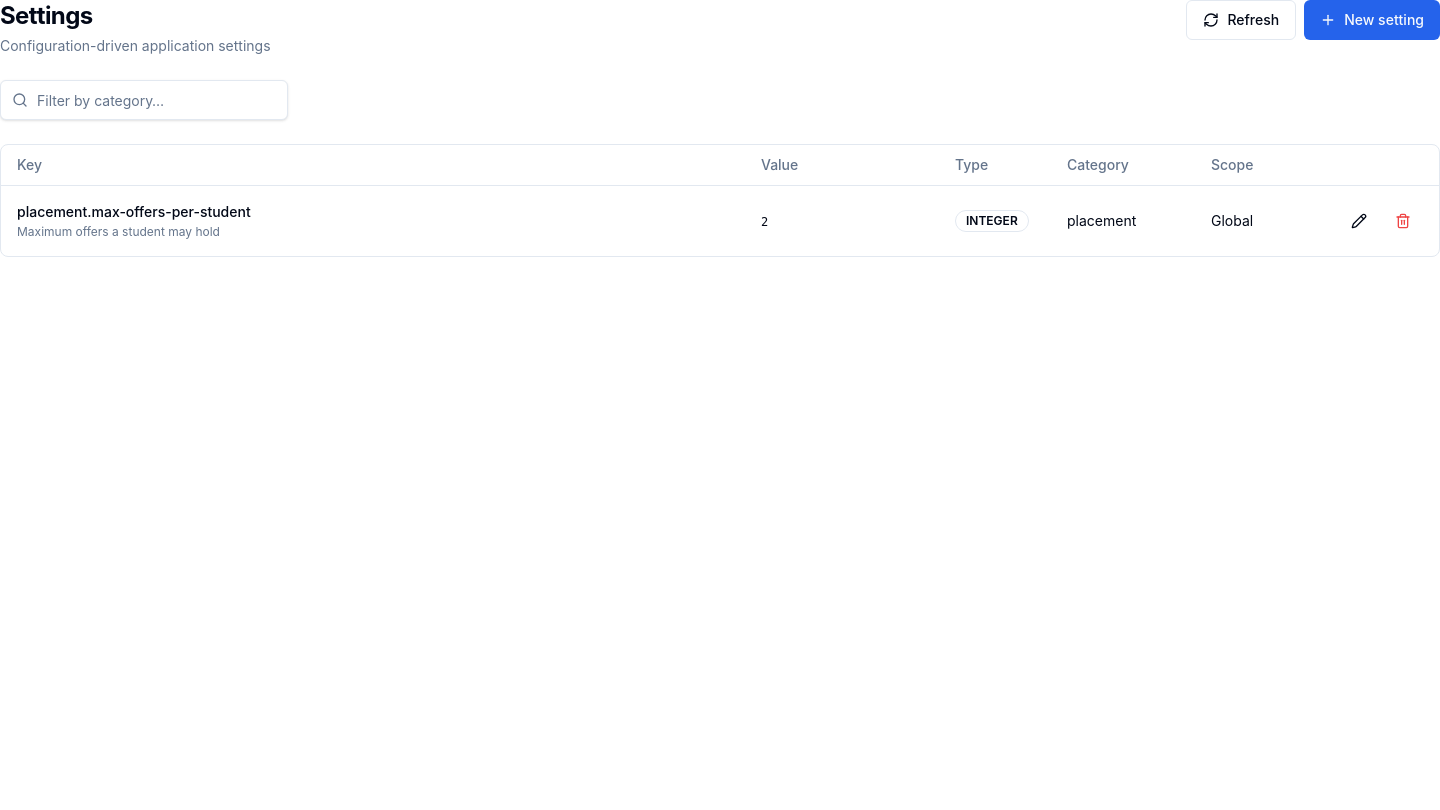
SettingsPage › confirms before deleting, then removes the setting
Expected: the text "placement.max-offers-per-student" is shown, [17,202,251,220]
Click the button named "delete placement.max-offers-per-student": (1403, 220) [1383,202,1423,238]
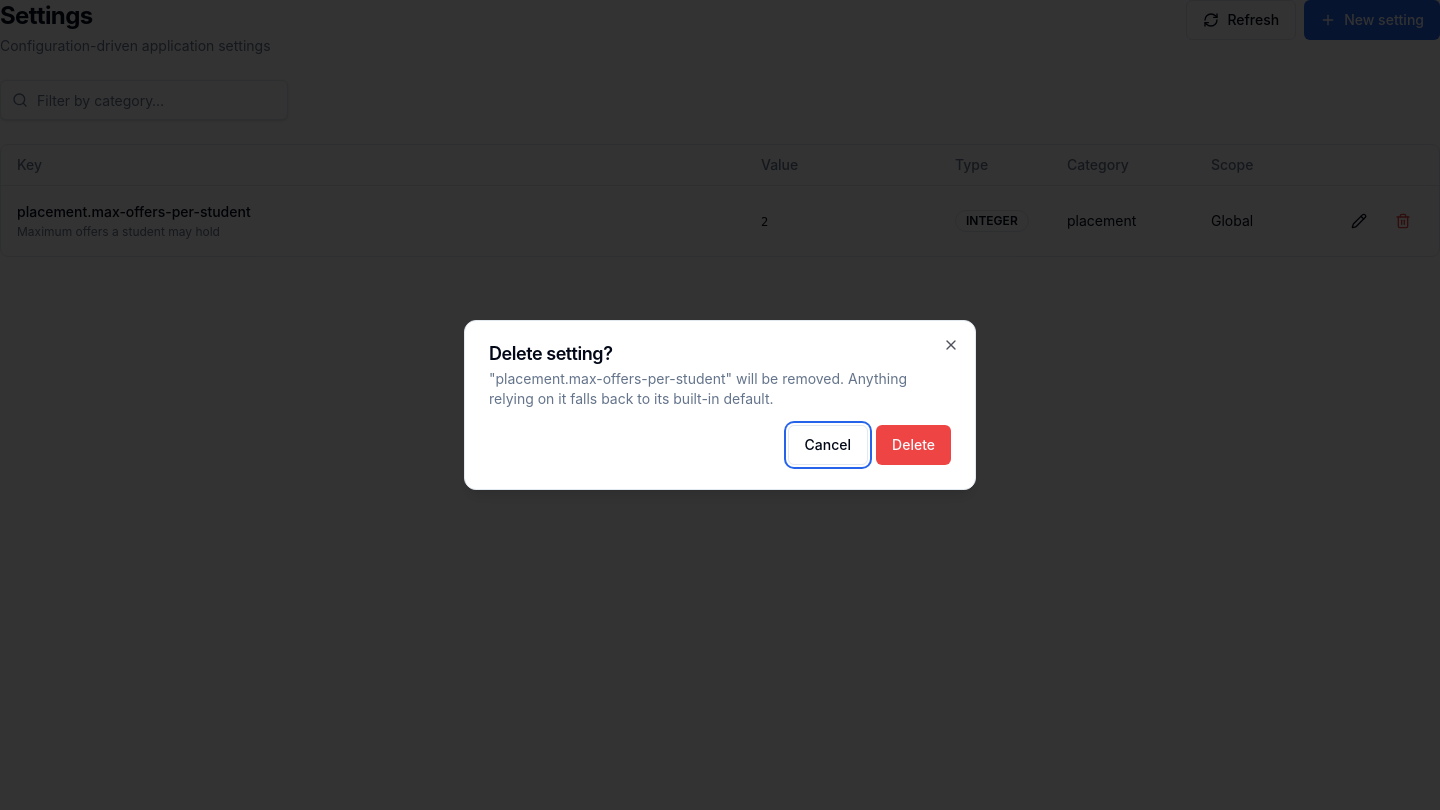
Expected: the heading "Delete setting?" is shown, [489,343,612,364]
Click the button "Delete": (914, 445) [876,425,951,465]
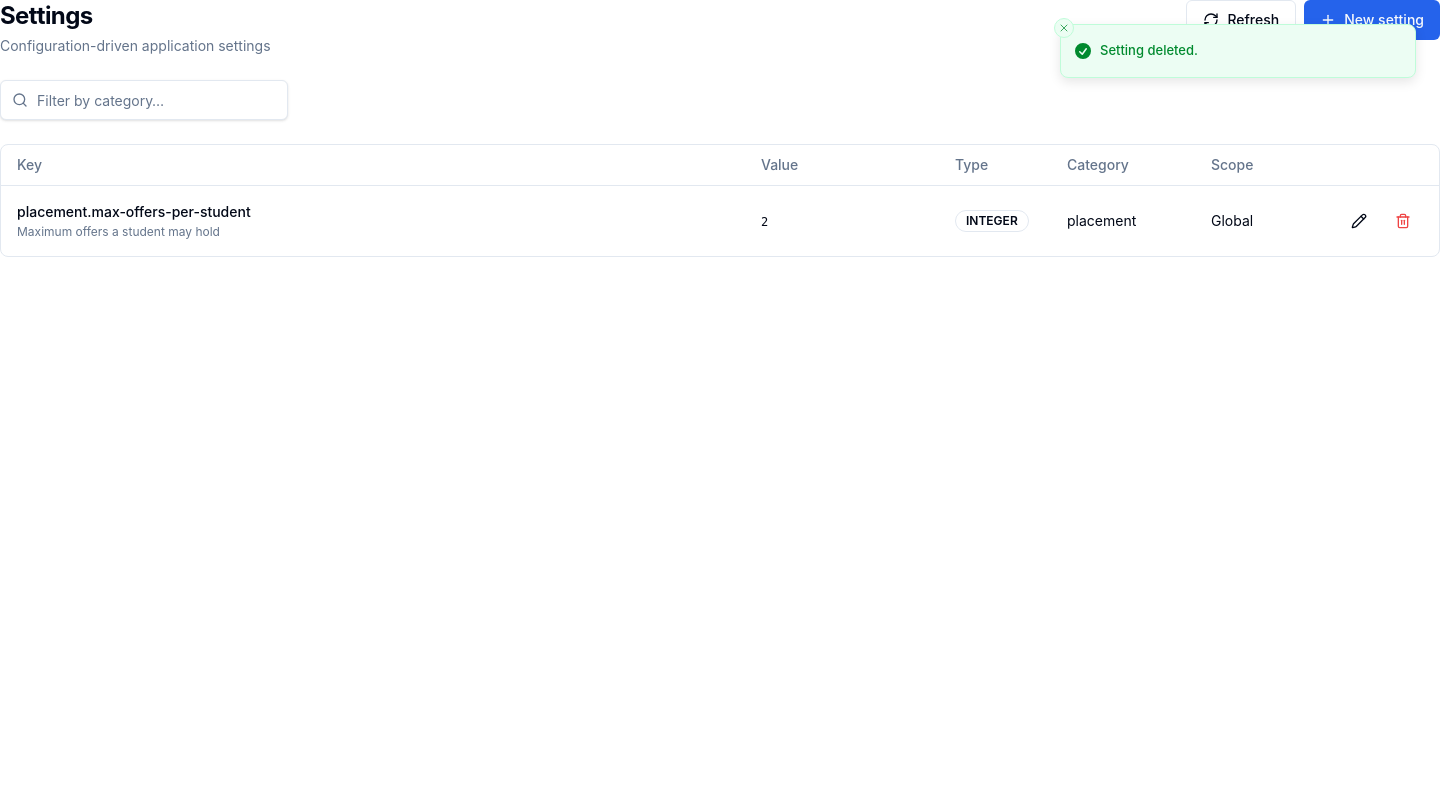
Expected: the text "Setting deleted." is shown, [1100,41,1198,60]
